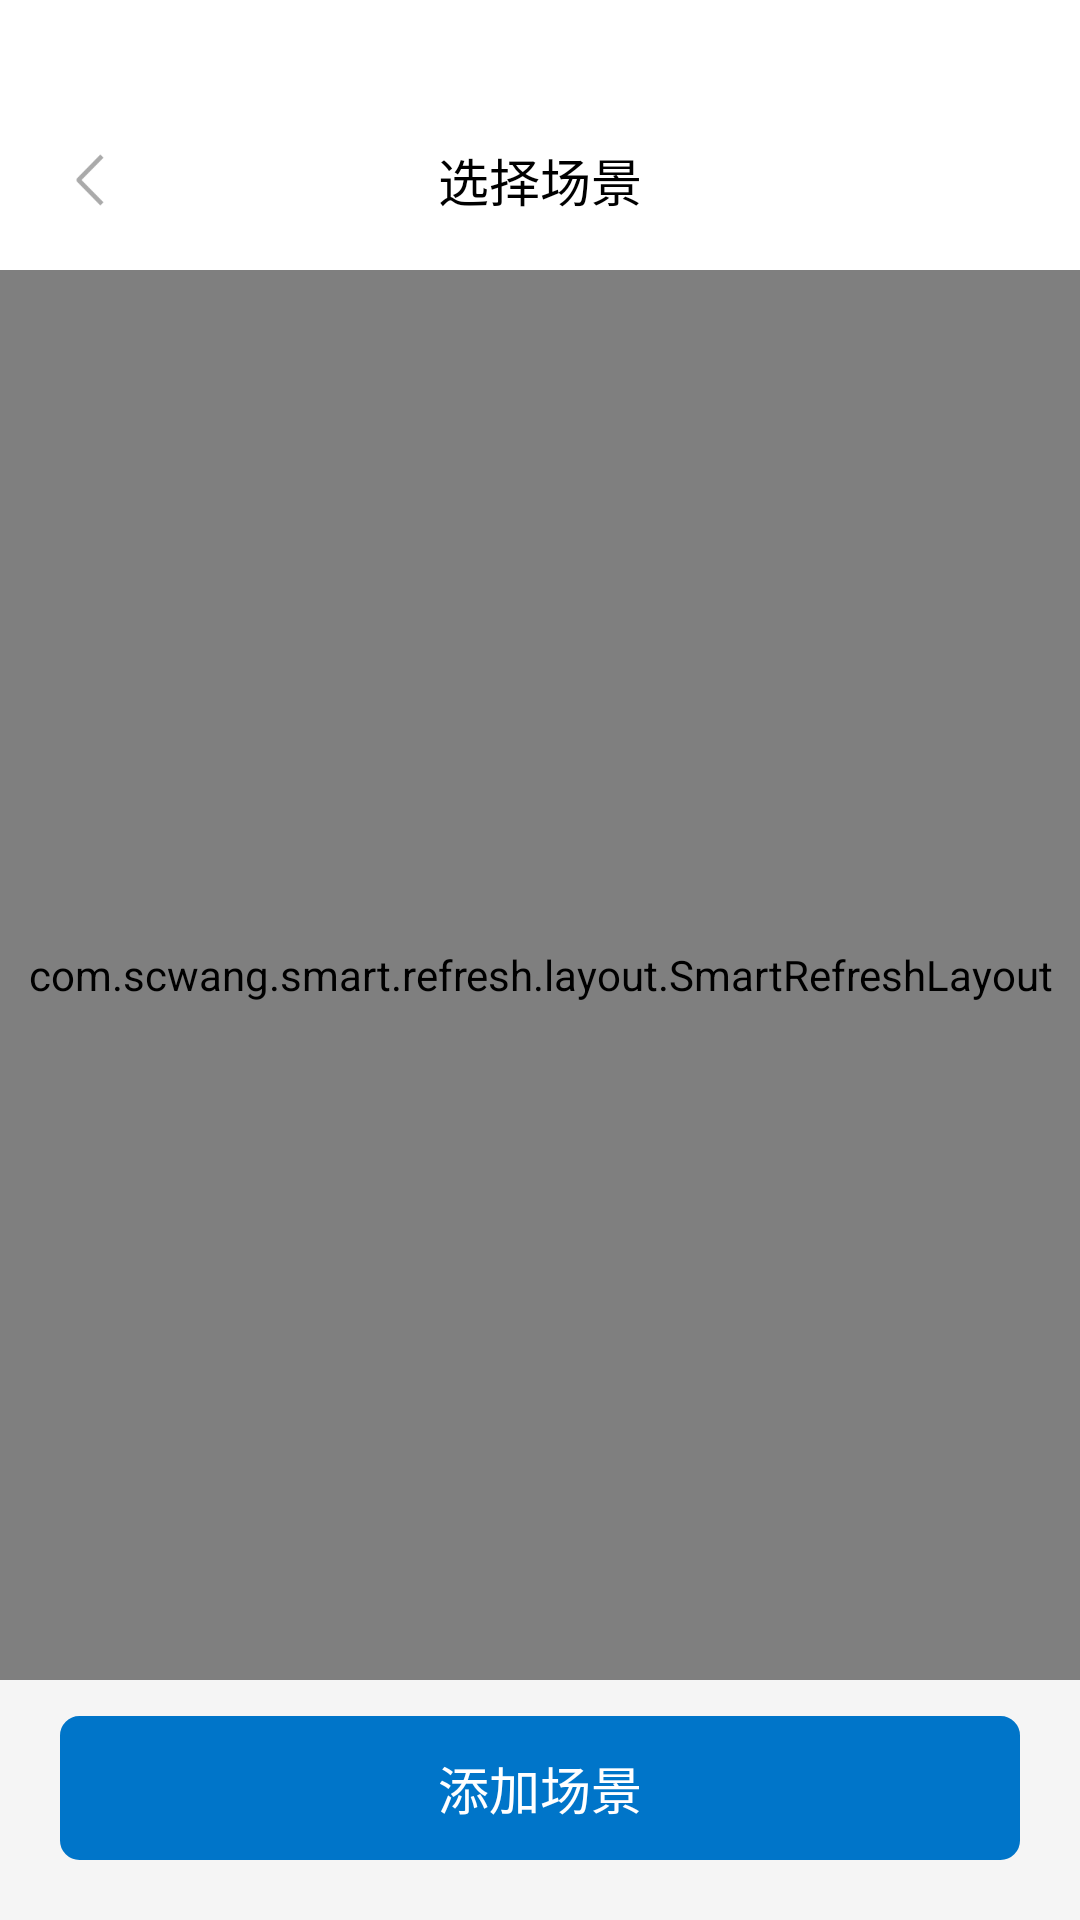

Where icons sit on this 1080 × 1920 app screen, as BBox(x1, y1, x2, y2):
back: BBox(76, 155, 103, 205)
